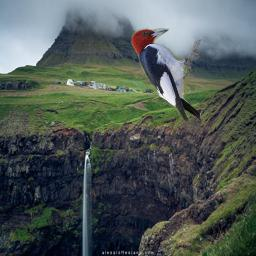Woodpecker: (129, 25, 205, 124)
